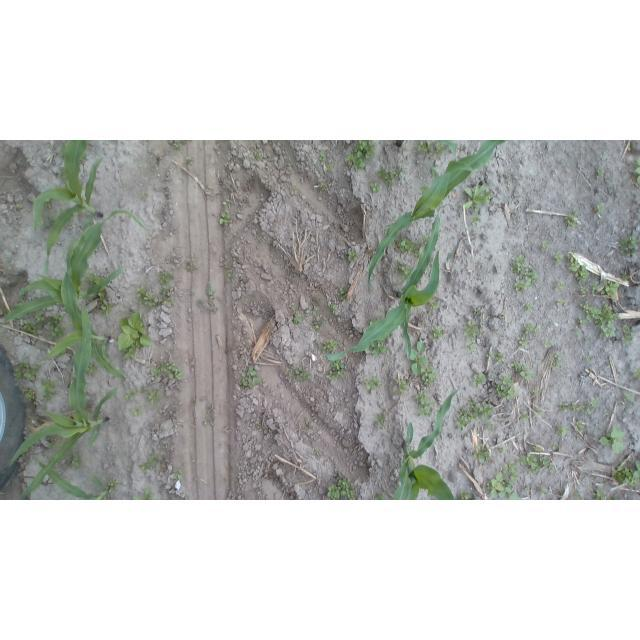Maize: (368, 140, 506, 296), (10, 302, 119, 499), (316, 203, 440, 361), (3, 208, 149, 328), (40, 230, 128, 382), (32, 141, 105, 276), (392, 388, 458, 500), (39, 463, 109, 500), (436, 140, 457, 152), (396, 141, 405, 146)
Weeds: (117, 312, 153, 361), (580, 300, 620, 341), (455, 399, 496, 429), (461, 183, 493, 216), (343, 140, 376, 172), (487, 470, 522, 500), (511, 256, 539, 292), (600, 422, 629, 455), (407, 338, 431, 374), (589, 277, 620, 303), (614, 461, 640, 492), (393, 234, 426, 258), (494, 373, 518, 404), (519, 454, 554, 475), (566, 254, 591, 282), (137, 286, 171, 306), (148, 361, 181, 381), (328, 478, 357, 500), (199, 282, 220, 310), (617, 234, 640, 259), (517, 323, 539, 349), (14, 362, 40, 383), (240, 366, 263, 389), (559, 401, 598, 414), (377, 169, 403, 187), (45, 313, 63, 339), (96, 292, 114, 317), (326, 359, 346, 381), (414, 393, 433, 416), (510, 361, 533, 378), (41, 380, 59, 401), (140, 449, 157, 471), (465, 319, 483, 339), (621, 323, 637, 345), (420, 140, 445, 154), (295, 366, 314, 384), (472, 444, 489, 464), (20, 386, 36, 406), (423, 367, 438, 388), (203, 405, 215, 430), (394, 380, 411, 397), (395, 262, 414, 277), (572, 317, 588, 333), (366, 375, 382, 390), (320, 340, 338, 353), (375, 412, 387, 431), (21, 323, 36, 338), (370, 341, 386, 355), (590, 204, 607, 217), (524, 486, 546, 496), (568, 211, 580, 229), (504, 458, 520, 471), (338, 285, 351, 300), (348, 250, 361, 265), (473, 373, 486, 388), (147, 390, 160, 405), (573, 420, 589, 432), (133, 492, 154, 501), (157, 273, 171, 286), (432, 325, 445, 339), (68, 455, 81, 469), (594, 488, 609, 500), (220, 211, 232, 226), (557, 422, 568, 438), (554, 280, 567, 293), (541, 240, 552, 255), (85, 272, 101, 282), (552, 251, 565, 263), (139, 191, 152, 203), (542, 340, 557, 350), (369, 180, 381, 192), (494, 352, 506, 364), (313, 318, 324, 331), (88, 364, 99, 377), (123, 389, 137, 399), (169, 141, 184, 150), (636, 154, 640, 187), (531, 390, 541, 403), (328, 304, 339, 315), (185, 263, 197, 273), (318, 151, 328, 163), (594, 167, 604, 179), (622, 393, 634, 403), (428, 300, 440, 310), (170, 470, 182, 480), (373, 492, 386, 501), (41, 215, 51, 226), (459, 492, 472, 500), (521, 413, 531, 423), (467, 342, 478, 351), (253, 150, 262, 161), (185, 155, 194, 165), (470, 215, 479, 225), (473, 306, 483, 315), (430, 168, 439, 178), (293, 313, 301, 324), (106, 481, 115, 490), (557, 300, 566, 309), (44, 200, 53, 209), (554, 351, 563, 360), (255, 234, 265, 242), (578, 285, 586, 295), (498, 445, 508, 453), (34, 314, 42, 324), (318, 182, 326, 192), (634, 367, 640, 379), (551, 362, 560, 370), (532, 445, 542, 452), (326, 164, 334, 172), (582, 353, 590, 361), (526, 304, 535, 311), (15, 204, 24, 211), (226, 270, 232, 280), (134, 411, 144, 417), (47, 438, 55, 445), (311, 448, 320, 454), (370, 318, 379, 324), (140, 384, 145, 394), (584, 336, 589, 344), (537, 408, 543, 414), (486, 352, 491, 359), (552, 442, 557, 448), (291, 187, 296, 193), (223, 200, 230, 204)
